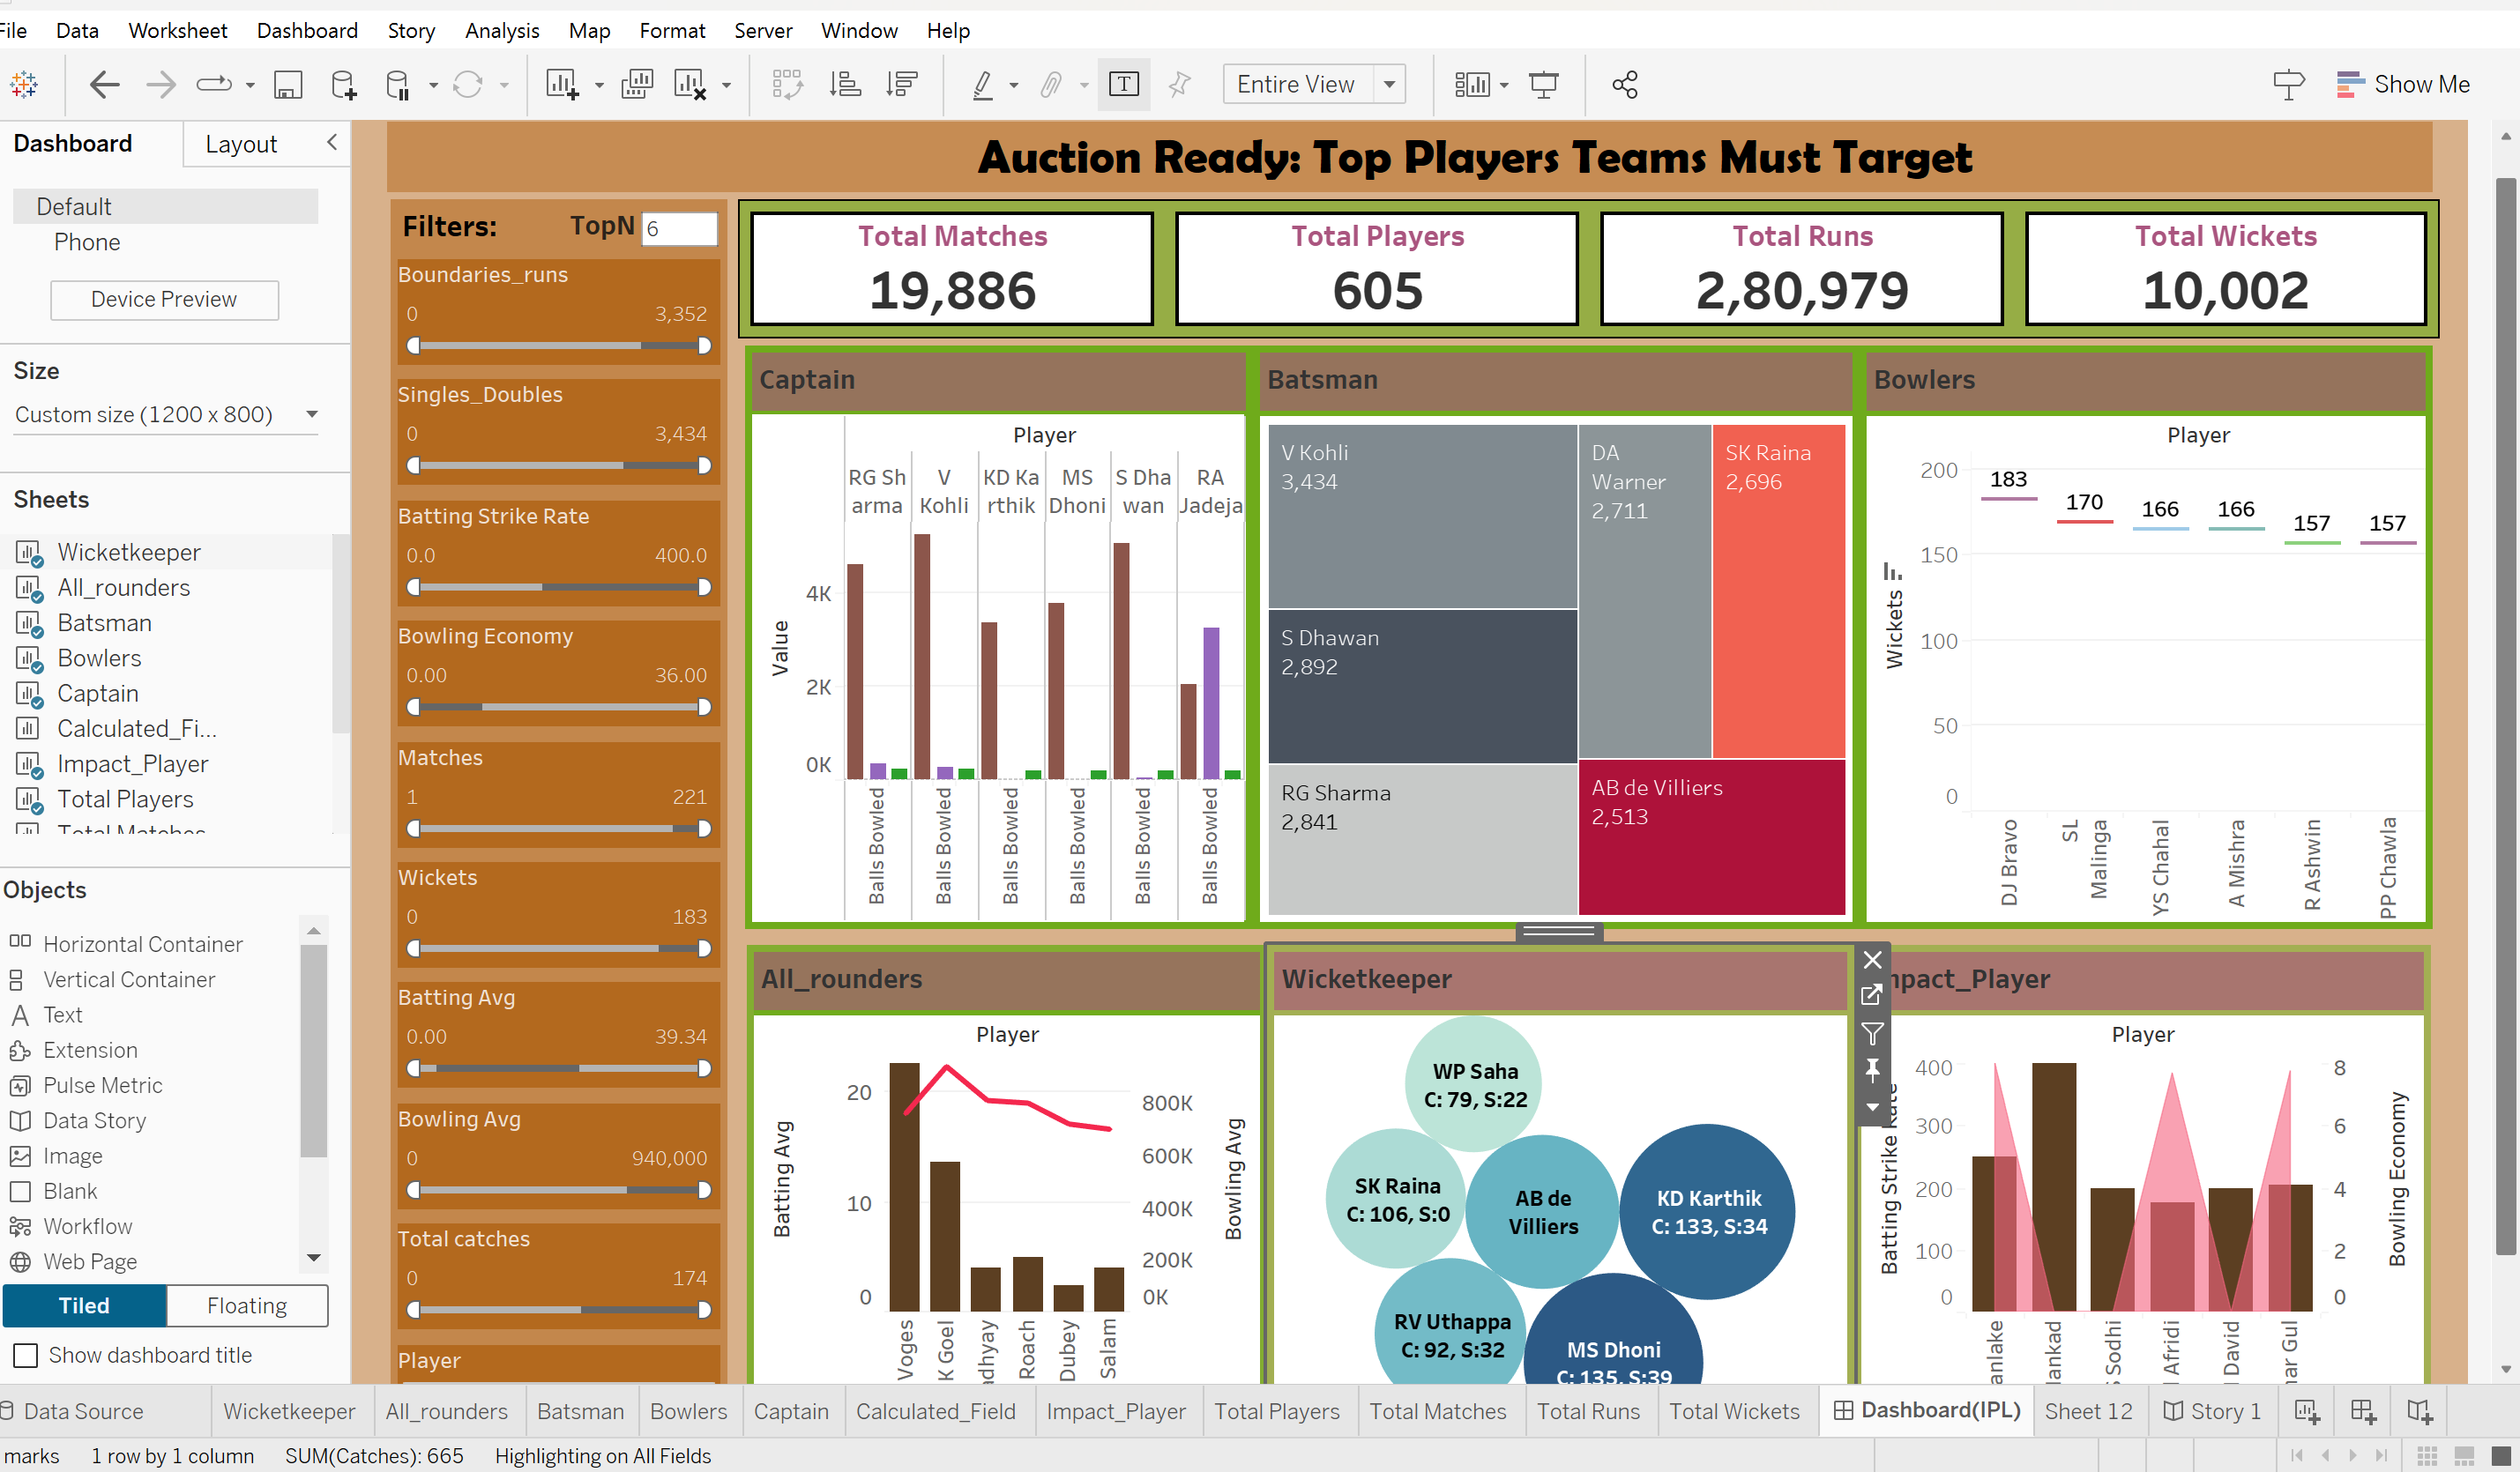

What the dashboard file says about the page in this screenshot:
{"tool":"tableau","page":{"name":"Dashboard(IPL)","canvas":[1200,800],"ordinal":0},"visuals":[{"type":"title","box":[16,16,1168,48]},{"type":"text","box":[22,64,190.9,30]},{"type":"worksheet","title":"Total Matches","mark":"Automatic","box":[220,65,241,77]},{"type":"worksheet","title":"Total Players","mark":"Automatic","box":[461,65,241,77]},{"type":"worksheet","title":"Total Runs","mark":"Automatic","box":[702,65,241,77]},{"type":"worksheet","title":"Total Wickets","mark":"Automatic","box":[943,65,240,77]},{"type":"parameter","param":"[Parameters].[Parameter 1]","box":[89,68,122,21]},{"type":"filter","title":"Batsman","param":"[federated.0bmhdfr0c28ux7114orh90zf4wjv].[sum:Calculation_1825365239052705794:qk","box":[22,94,190.9,68.4]},{"type":"worksheet","title":"Captain","mark":"Automatic","cols":["player"],"box":[222.9,147.3,288,330.9]},{"type":"worksheet","title":"Batsman","mark":"Automatic","box":[510.9,147.3,344,330.9]},{"type":"worksheet","title":"Bowlers","mark":"GanttBar","rows":["wickets"],"cols":["player"],"box":[854.9,147.3,325,330.9]},{"type":"filter","title":"Batsman","param":"[federated.0bmhdfr0c28ux7114orh90zf4wjv].[sum:Calculation_1825365239051485185:qk","box":[22,162.4,190.9,68.4]},{"type":"filter","title":"Impact_Player","param":"[federated.0bmhdfr0c28ux7114orh90zf4wjv].[sum:batting_strike_rate:qk]","box":[22,230.8,190.9,68.4]},{"type":"filter","title":"Impact_Player","param":"[federated.0bmhdfr0c28ux7114orh90zf4wjv].[sum:bowling_economy:qk]","box":[22,299.2,190.9,68.4]},{"type":"filter","title":"Captain","param":"[federated.0bmhdfr0c28ux7114orh90zf4wjv].[sum:matches:qk]","box":[22,367.6,190.9,68.4]},{"type":"filter","title":"Bowlers","param":"[federated.0bmhdfr0c28ux7114orh90zf4wjv].[sum:wickets:qk]","box":[22,436,190.9,68.4]},{"type":"worksheet","title":"All_rounders","mark":"Bar","rows":["batting_avg","bowling_avg"],"cols":["player"],"box":[223.9,487.3,295.4,291.7]},{"type":"worksheet","title":"Wicketkeeper","mark":"Circle","box":[519.4,487.3,332.6,291.7]},{"type":"worksheet","title":"Impact_Player","mark":"Automatic","rows":["batting_strike_rate","bowling_economy"],"cols":["player"],"box":[852,487.3,327,291.7]},{"type":"filter","title":"All_rounders","param":"[federated.0bmhdfr0c28ux7114orh90zf4wjv].[sum:batting_avg:qk]","box":[22,504.4,190.9,68.4]},{"type":"filter","title":"All_rounders","param":"[federated.0bmhdfr0c28ux7114orh90zf4wjv].[sum:bowling_avg:qk]","box":[22,572.8,190.9,68.4]},{"type":"filter","title":"Wicketkeeper","param":"[federated.0bmhdfr0c28ux7114orh90zf4wjv].[sum:Calculation_2514697457848750084:qk","box":[22,641.2,190.9,68.4]},{"type":"filter","title":"Batsman","param":"[federated.0bmhdfr0c28ux7114orh90zf4wjv].[none:player:nk]","box":[22,709.6,190.9,68.4]}]}

Visuals, with their boxes in screenshot pixels (x1, y1, x2, y2):
title: [383, 113, 2424, 197]
text: [393, 197, 727, 249]
"Total Matches" worksheet: [739, 199, 1160, 333]
"Total Players" worksheet: [1160, 199, 1581, 333]
"Total Runs" worksheet: [1581, 199, 2002, 333]
"Total Wickets" worksheet: [2002, 199, 2422, 333]
parameter: [510, 204, 723, 241]
"Batsman" filter: [393, 249, 727, 369]
"Captain" worksheet: [744, 343, 1248, 921]
"Batsman" worksheet: [1248, 343, 1849, 921]
"Bowlers" worksheet (GanttBar marks): [1849, 343, 2417, 921]
"Batsman" filter: [393, 369, 727, 488]
"Impact_Player" filter: [393, 488, 727, 608]
"Impact_Player" filter: [393, 608, 727, 727]
"Captain" filter: [393, 727, 727, 847]
"Bowlers" filter: [393, 847, 727, 967]
"All_rounders" worksheet (Bar marks): [746, 937, 1262, 1446]
"Wicketkeeper" worksheet (Circle marks): [1263, 937, 1844, 1446]
"Impact_Player" worksheet: [1844, 937, 2415, 1446]
"All_rounders" filter: [393, 967, 727, 1086]
"All_rounders" filter: [393, 1086, 727, 1206]
"Wicketkeeper" filter: [393, 1206, 727, 1325]
"Batsman" filter: [393, 1325, 727, 1445]
